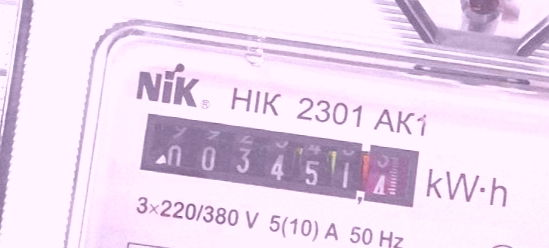0: (164, 139, 186, 168), (199, 142, 220, 172)
1: (338, 157, 356, 190)
3: (233, 143, 255, 175)
4: (267, 150, 290, 183), (369, 169, 391, 199)
5: (303, 155, 322, 188)
screen: (133, 106, 428, 215)
